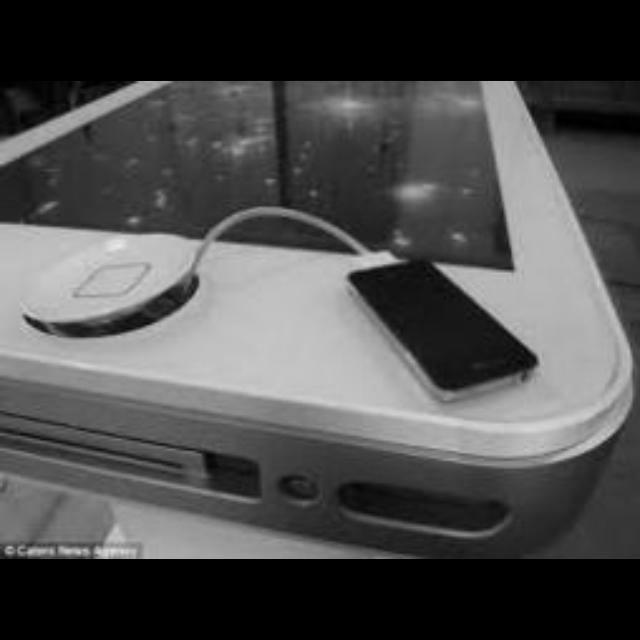fake: (299, 240, 572, 430)
